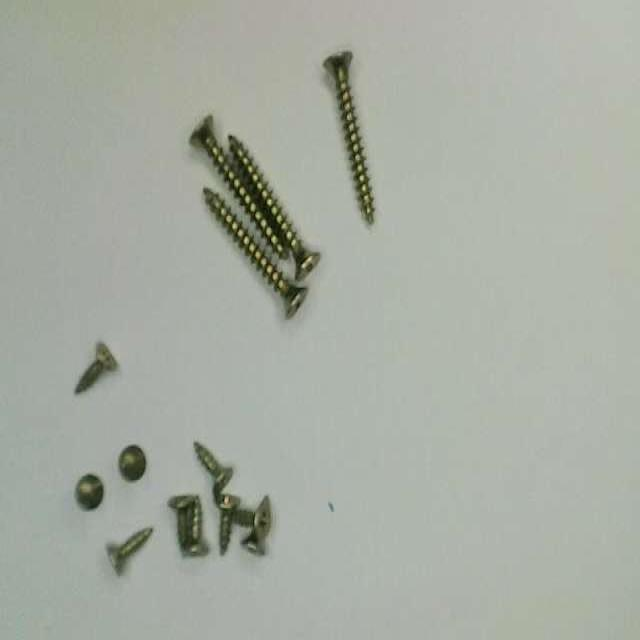Parafuso: (189, 115, 287, 258), (203, 188, 307, 318), (228, 135, 320, 279), (323, 51, 373, 223), (75, 342, 117, 394), (194, 442, 232, 499), (106, 527, 152, 574), (233, 496, 271, 539), (168, 495, 196, 553), (184, 496, 208, 555), (216, 494, 239, 554), (75, 474, 103, 510), (118, 444, 145, 481), (242, 531, 265, 554)
